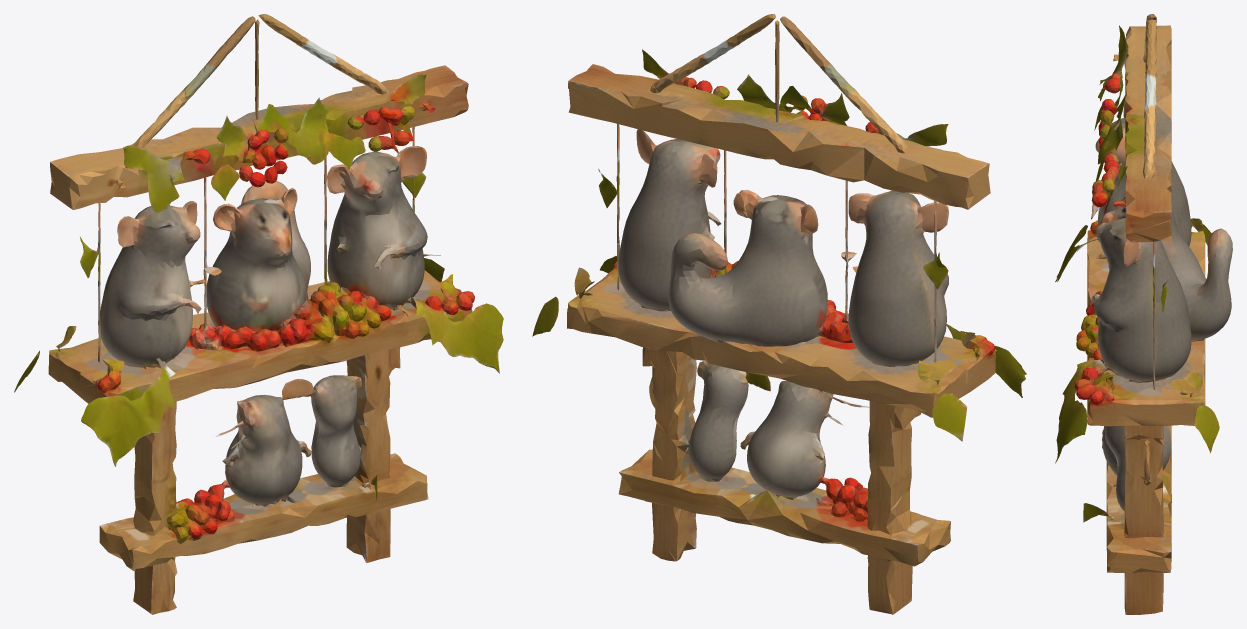
The picture shows the model from 3 angles, left to right: view 1: azimuth 30°, elevation 25°; view 2: azimuth 150°, elevation 25°; view 3: azimuth 270°, elevation 25°; orthographic projection. The views are drawn at different scales.
Parts seen in each view (by area): view 1: 022; view 2: 022; view 3: 022.
Boxes of the visible parts, <box> form: 022: <box>14,14,503,614</box>; 022: <box>532,14,1026,614</box>; 022: <box>1055,14,1232,614</box>.
Size of the model in its own units: 1.51 by 1.9 by 0.565.
1 material, 1 textured.
